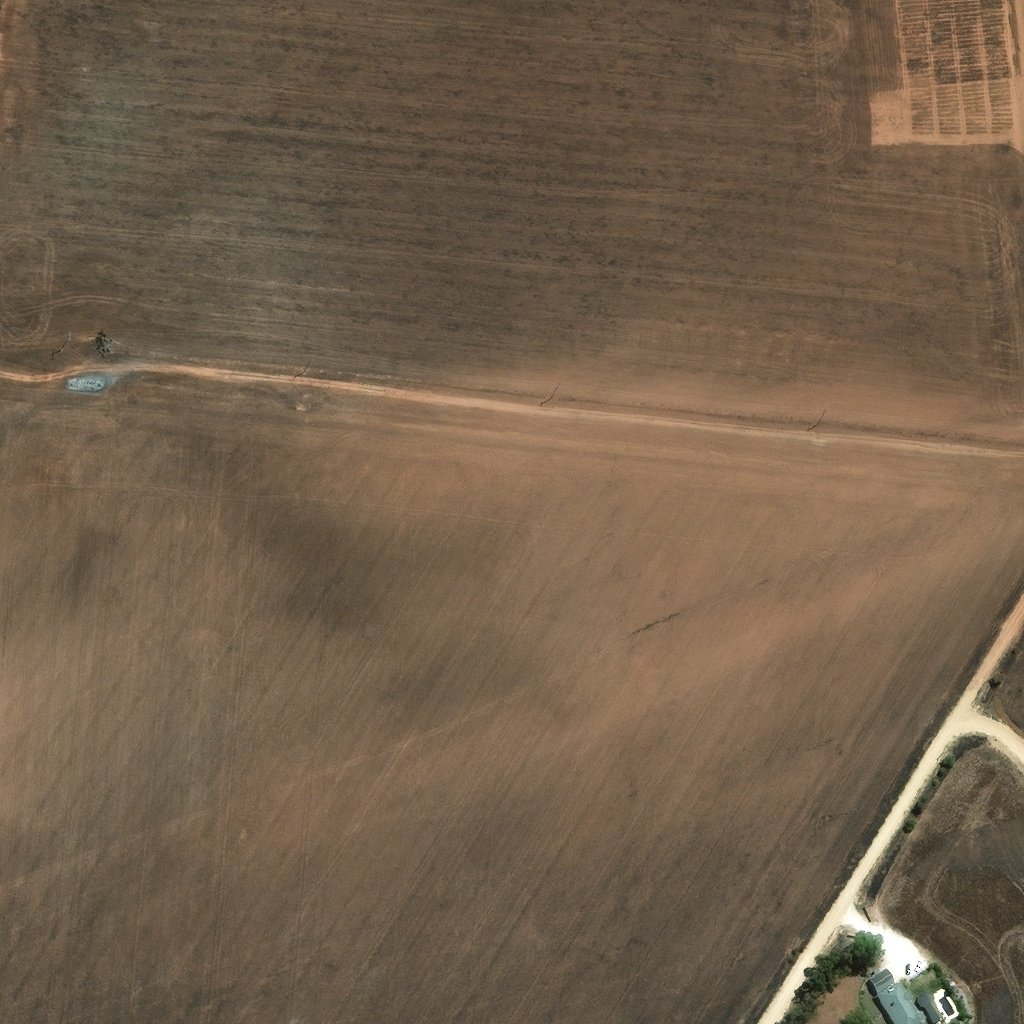0 no-damage: (867, 969, 948, 1023)
